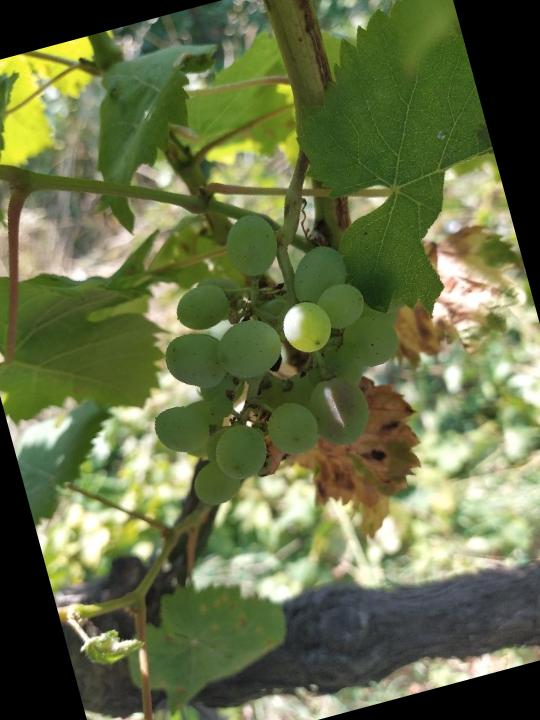grape: (104, 181, 438, 517)
